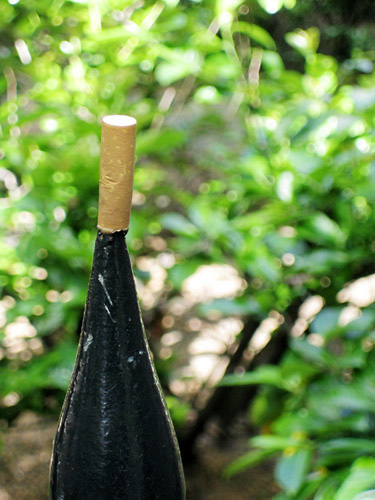litter: (47, 112, 186, 498)
